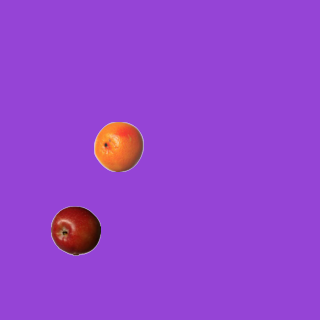Apple Braeburn: (50, 205, 100, 255)
Grapefruit Pink: (93, 121, 143, 171)
